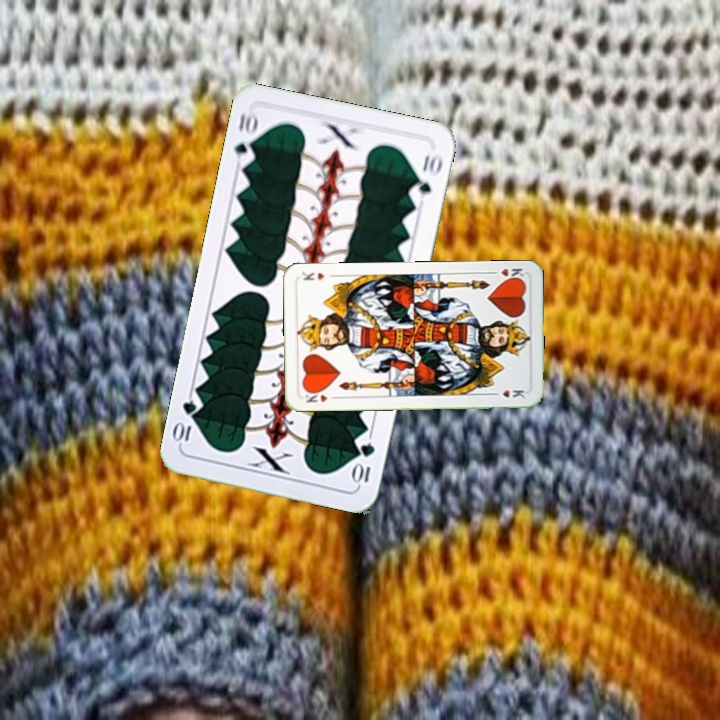G10: (230, 107, 261, 168), (350, 439, 378, 487)
HK: (486, 264, 527, 283), (301, 387, 330, 405)
